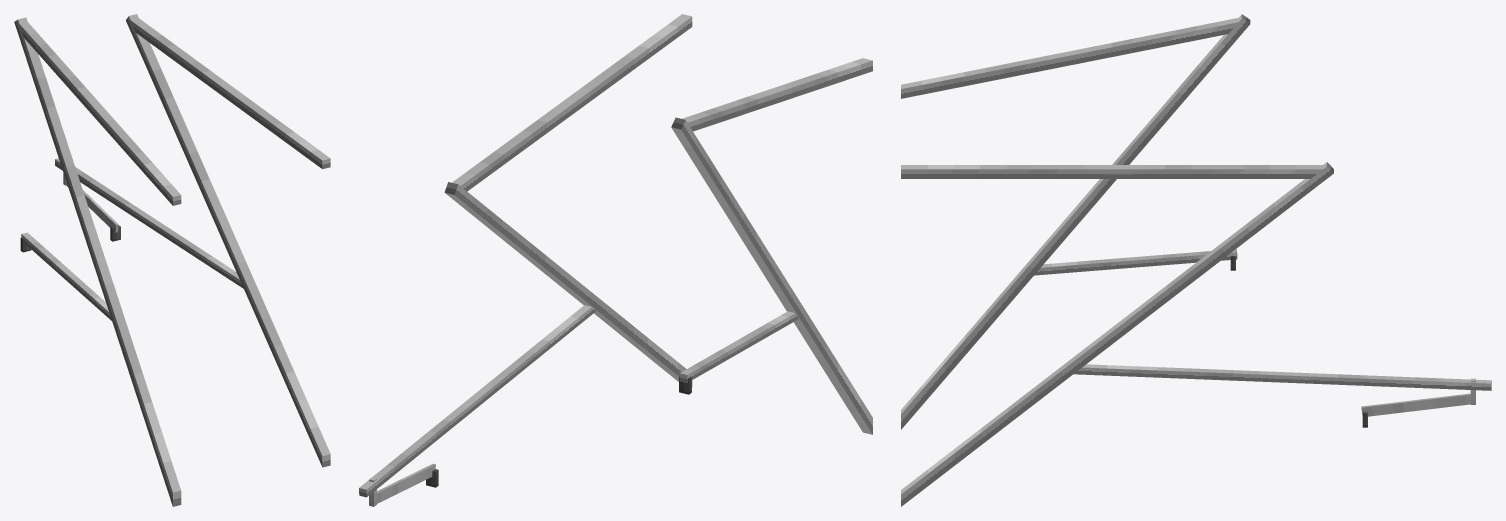
Rendered from cantilever_outer_16px.obj.
3 views of the same model, side by side, from view 1: azimuth 30°, elevation 25°; view 2: azimuth 150°, elevation 25°; view 3: azimuth 270°, elevation 25° (orthographic). The views are drawn at different scales.
Visible parts, largest first — view 1: 2ebc6fa9-ed0c-41b7-96b7-0ae02ad8da8d, 9159eb26-b36d-4ecf-8806-7a8fdcfb363e, 33cc11a1-bb51-4d12-a022-e7ce631f5652, 40c5ae41-0c62-4d98-8ea0-171e1077738f, 9ea25dfd-784b-4dfc-aa1c-4bcd3195e92a, 0e0f196f-f933-4743-9795-1a0486fcd127, d3c2ae23-3a8d-41a2-9c42-f5b1443e5e37; view 2: 2ebc6fa9-ed0c-41b7-96b7-0ae02ad8da8d, 33cc11a1-bb51-4d12-a022-e7ce631f5652, 9159eb26-b36d-4ecf-8806-7a8fdcfb363e, 9ea25dfd-784b-4dfc-aa1c-4bcd3195e92a, 40c5ae41-0c62-4d98-8ea0-171e1077738f, 0e0f196f-f933-4743-9795-1a0486fcd127, d3c2ae23-3a8d-41a2-9c42-f5b1443e5e37; view 3: 9159eb26-b36d-4ecf-8806-7a8fdcfb363e, 2ebc6fa9-ed0c-41b7-96b7-0ae02ad8da8d, 33cc11a1-bb51-4d12-a022-e7ce631f5652, 40c5ae41-0c62-4d98-8ea0-171e1077738f, 9ea25dfd-784b-4dfc-aa1c-4bcd3195e92a, 0e0f196f-f933-4743-9795-1a0486fcd127, d3c2ae23-3a8d-41a2-9c42-f5b1443e5e37.
Part boxes in pixels (x1=…): 2ebc6fa9-ed0c-41b7-96b7-0ae02ad8da8d: x1=14, y1=17, x2=181, y2=506; 9159eb26-b36d-4ecf-8806-7a8fdcfb363e: x1=126, y1=14, x2=330, y2=467; 33cc11a1-bb51-4d12-a022-e7ce631f5652: x1=130, y1=18, x2=330, y2=169; 40c5ae41-0c62-4d98-8ea0-171e1077738f: x1=19, y1=22, x2=181, y2=205; 9ea25dfd-784b-4dfc-aa1c-4bcd3195e92a: x1=55, y1=158, x2=243, y2=288; 0e0f196f-f933-4743-9795-1a0486fcd127: x1=21, y1=232, x2=111, y2=320; d3c2ae23-3a8d-41a2-9c42-f5b1443e5e37: x1=66, y1=182, x2=118, y2=232; 2ebc6fa9-ed0c-41b7-96b7-0ae02ad8da8d: x1=671, y1=117, x2=872, y2=434; 33cc11a1-bb51-4d12-a022-e7ce631f5652: x1=452, y1=14, x2=692, y2=191; 9159eb26-b36d-4ecf-8806-7a8fdcfb363e: x1=444, y1=182, x2=692, y2=386; 9ea25dfd-784b-4dfc-aa1c-4bcd3195e92a: x1=359, y1=305, x2=596, y2=497; 40c5ae41-0c62-4d98-8ea0-171e1077738f: x1=682, y1=58, x2=872, y2=131; 0e0f196f-f933-4743-9795-1a0486fcd127: x1=679, y1=311, x2=798, y2=382; d3c2ae23-3a8d-41a2-9c42-f5b1443e5e37: x1=377, y1=463, x2=435, y2=503; 9159eb26-b36d-4ecf-8806-7a8fdcfb363e: x1=901, y1=162, x2=1333, y2=506; 2ebc6fa9-ed0c-41b7-96b7-0ae02ad8da8d: x1=901, y1=14, x2=1250, y2=429; 33cc11a1-bb51-4d12-a022-e7ce631f5652: x1=901, y1=165, x2=1322, y2=178; 40c5ae41-0c62-4d98-8ea0-171e1077738f: x1=901, y1=18, x2=1238, y2=98; 9ea25dfd-784b-4dfc-aa1c-4bcd3195e92a: x1=1074, y1=364, x2=1491, y2=390; 0e0f196f-f933-4743-9795-1a0486fcd127: x1=1034, y1=249, x2=1237, y2=275; d3c2ae23-3a8d-41a2-9c42-f5b1443e5e37: x1=1361, y1=393, x2=1470, y2=416.
Size of the model in its own units: 1.19 by 2.69 by 3.5.
